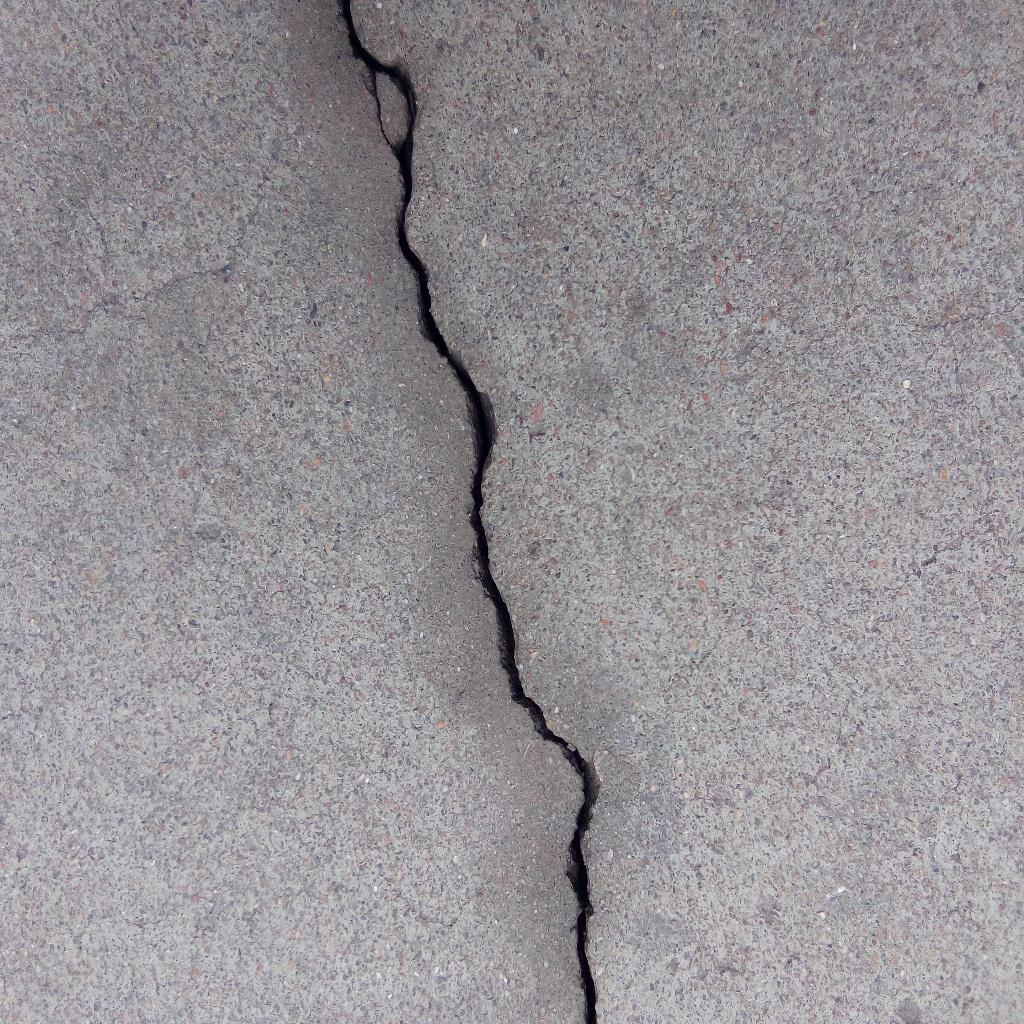Crack: (340, 1, 604, 1024)
